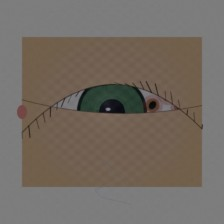foreign_body_visible: (130, 87, 175, 123)
